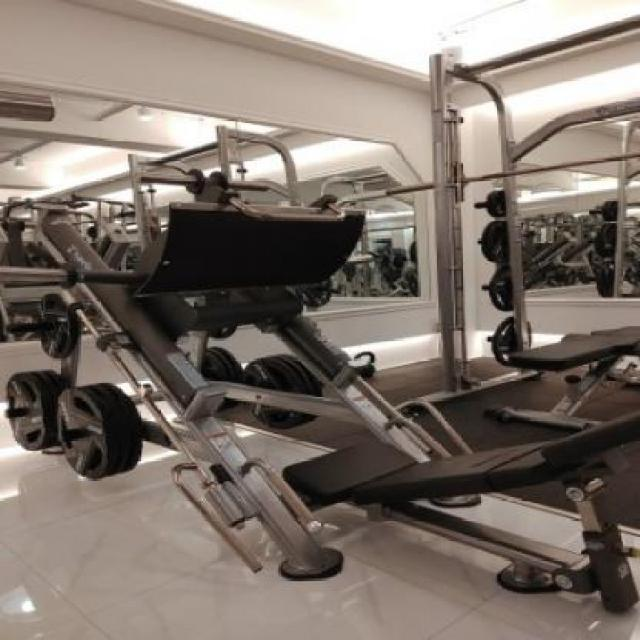leg press: (0, 166, 640, 617)
